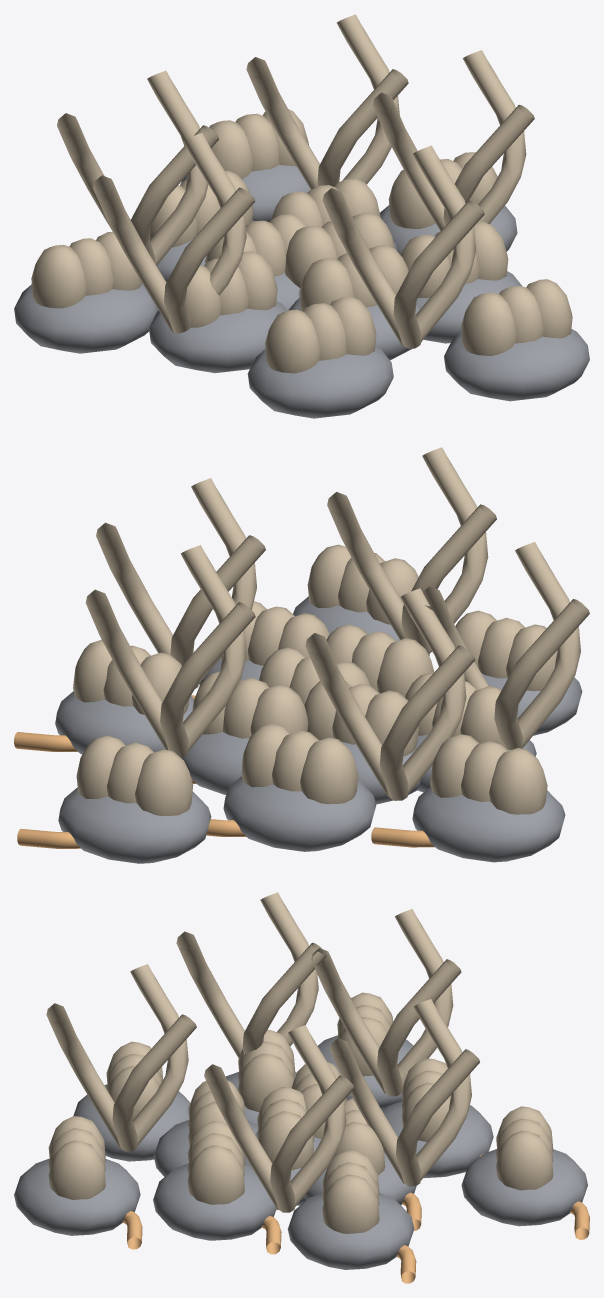
File: bio_acid_mat_14_far.glb
3 renders of one model, top to bottom at view 1: azimuth 30°, elevation 25°; view 2: azimuth 150°, elevation 25°; view 3: azimuth 270°, elevation 25°, orthographic. The views are drawn at different scales.
Visible parts, largest first — view 1: Spiral filament.006, Spiral filament.012, Spiral filament.009, Spiral filament, Spiral filament.003, Microbial cushion.007, Microbial cushion.010, Microbial cushion.009, Reaction vesicle.030, Reaction vesicle.021, Reaction vesicle.027, Microbial cushion.004 (+15 smaller); view 2: Spiral filament.009, Spiral filament.003, Spiral filament.006, Spiral filament.012, Spiral filament, Microbial cushion.009, Microbial cushion.011, Microbial cushion.006, Reaction vesicle.027, Reaction vesicle.018, Reaction vesicle.033, Reaction vesicle.006 (+17 smaller); view 3: Spiral filament.006, Spiral filament, Spiral filament.009, Spiral filament.003, Spiral filament.012, Microbial cushion.008, Microbial cushion.011, Microbial cushion.010, Microbial cushion.005, Reaction vesicle.030, Reaction vesicle.033, Reaction vesicle.024 (+18 smaller).
Part boxes in pixels (x1,y1,x2,y2): Spiral filament.006: (322, 145, 484, 348); Spiral filament.012: (93, 133, 255, 333); Spiral filament.009: (246, 14, 408, 189); Spiral filament: (372, 50, 534, 230); Spiral filament.003: (57, 70, 218, 265); Microbial cushion.007: (247, 346, 393, 418); Microbial cushion.010: (444, 329, 589, 401); Microbial cushion.009: (14, 283, 158, 353); Reaction vesicle.030: (461, 279, 572, 355); Reaction vesicle.021: (265, 296, 376, 373); Reaction vesicle.027: (31, 232, 141, 308); Microbial cushion.004: (149, 301, 287, 373); Spiral filament.009: (85, 545, 255, 757); Spiral filament.003: (305, 588, 474, 800); Spiral filament.006: (327, 447, 496, 655); Spiral filament.012: (422, 542, 589, 749); Spiral filament: (96, 478, 265, 688); Microbial cushion.009: (412, 786, 565, 862); Microbial cushion.011: (58, 787, 211, 863); Microbial cushion.006: (223, 776, 376, 851); Reaction vesicle.027: (430, 734, 547, 814); Reaction vesicle.018: (241, 724, 358, 804); Reaction vesicle.033: (76, 735, 193, 816); Reaction vesicle.006: (326, 624, 434, 697); Spiral filament.006: (46, 964, 196, 1151); Spiral filament: (204, 1025, 354, 1212); Spiral filament.009: (329, 999, 479, 1186); Spiral filament.003: (311, 909, 461, 1096); Spiral filament.012: (176, 892, 326, 1058); Microbial cushion.008: (287, 1193, 414, 1269); Microbial cushion.011: (461, 1149, 587, 1226); Microbial cushion.010: (14, 1158, 140, 1235); Microbial cushion.005: (153, 1163, 276, 1240); Reaction vesicle.030: (48, 1116, 105, 1199); Reaction vesicle.033: (496, 1106, 553, 1190); Reaction vesicle.024: (322, 1150, 379, 1233).
Size of the model in its own units: 1.83 by 0.7408 by 2.
